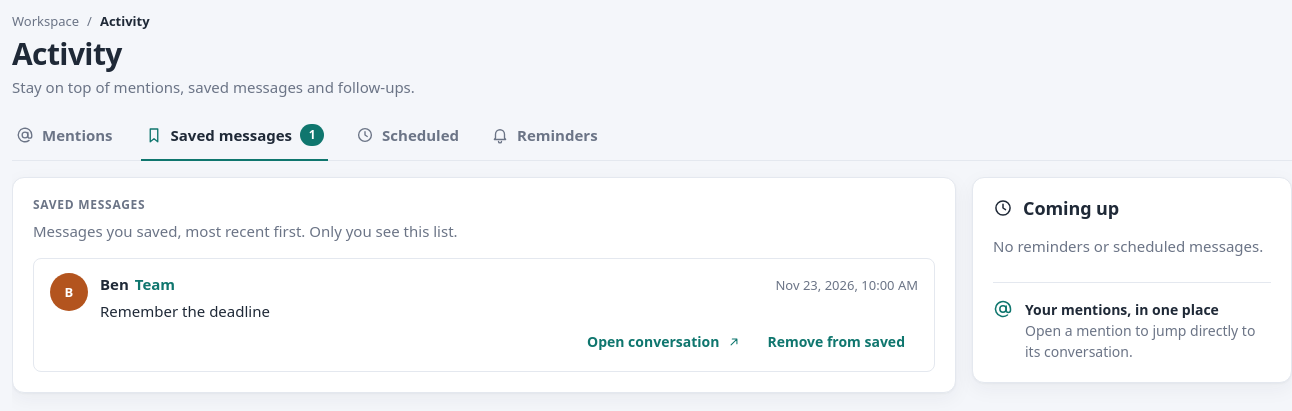
Test: MentionsPage › lists saved messages in the second tab and removes one (Phase 18)
Expected: the heading "Saved messages" is shown, [33,196,145,212]
Expected: the text "Remember the deadline" is shown, [100,301,270,321]
Click the button "Remove from saved": point(836, 342) [758,326,914,357]
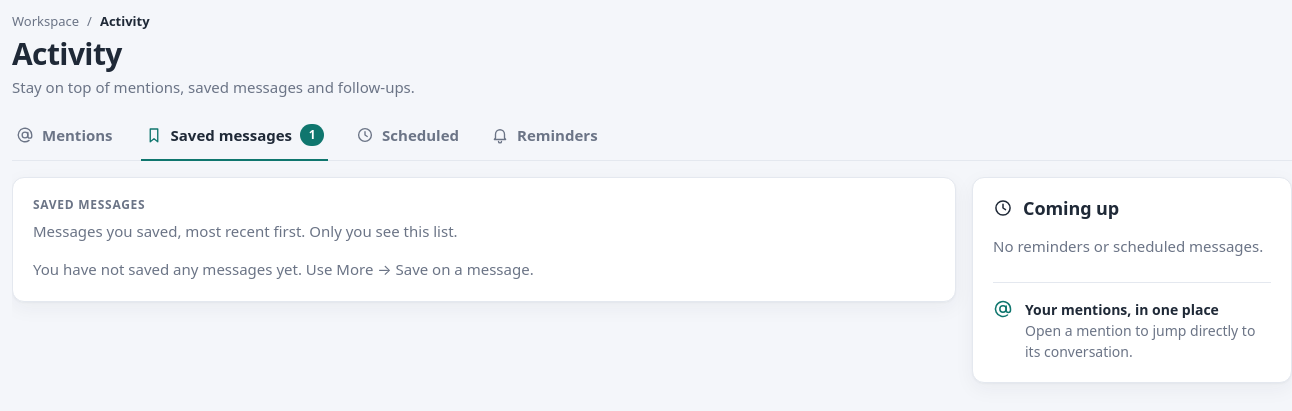
Result: the text "not saved any messages" is shown at [33,259,534,279]
